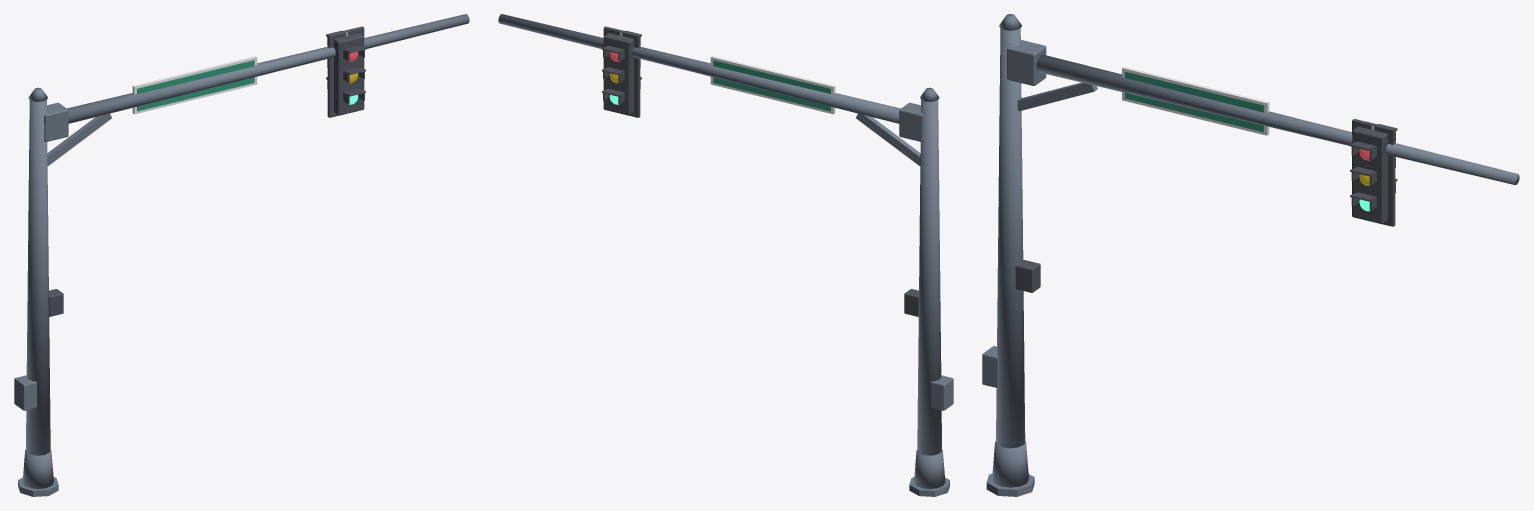
Rendered from prop_traffic_signal.glb.
3 renders of one model, left to right at view 1: azimuth 30°, elevation 25°; view 2: azimuth 150°, elevation 25°; view 3: azimuth 330°, elevation 25°, orthographic. The views are drawn at different scales.
Parts seen in each view (by area): view 1: BaseFlange; view 2: BaseFlange; view 3: BaseFlange.
Boxes of the visible parts, x1,y1,x2,y2 form: BaseFlange: (14,14,469,496); BaseFlange: (498,14,953,496); BaseFlange: (982,14,1519,496).
Size of the model in its own units: 7.86 by 6.69 by 0.7408.
